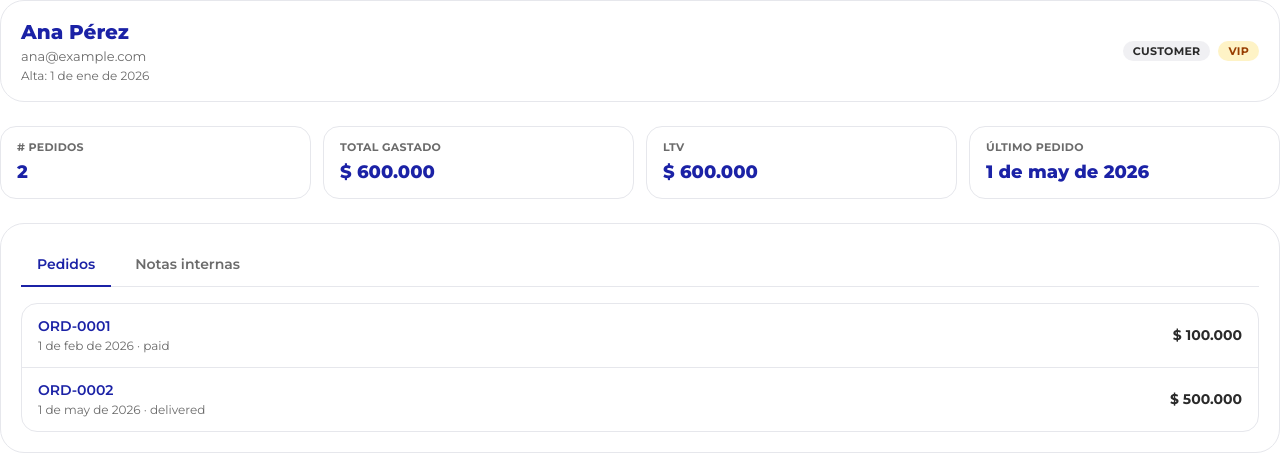
it: CustomerDetail › muestra placeholder de notas internas al cambiar de tab
This screenshot has width=1280, height=470.
Click the tab "Notas internas": [188, 266] box x1=119 y1=244 x2=256 y2=287
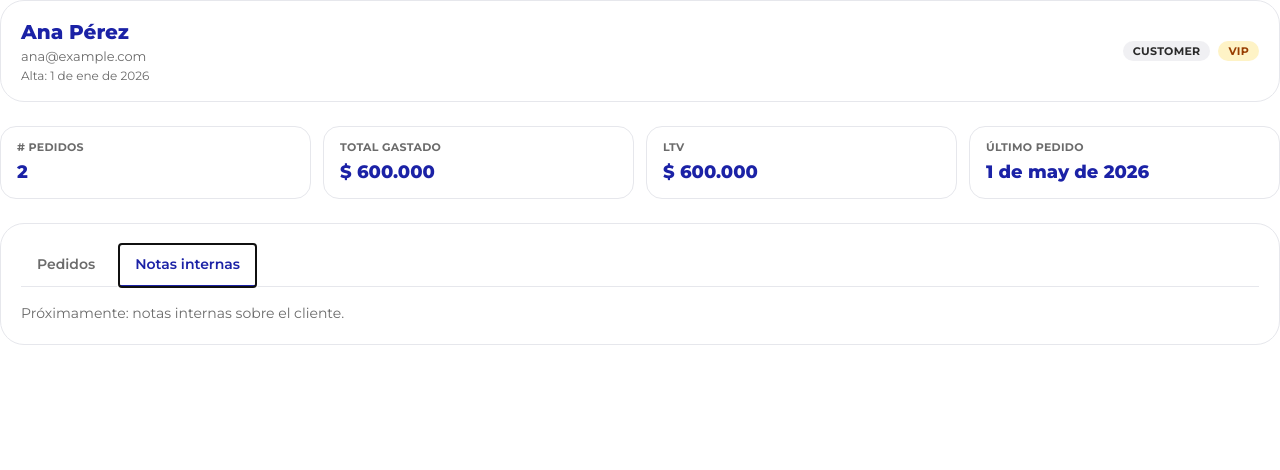
expect the text "Próximamente: notas internas sobre el cliente." is shown: met, box x1=21 y1=304 x2=344 y2=322
